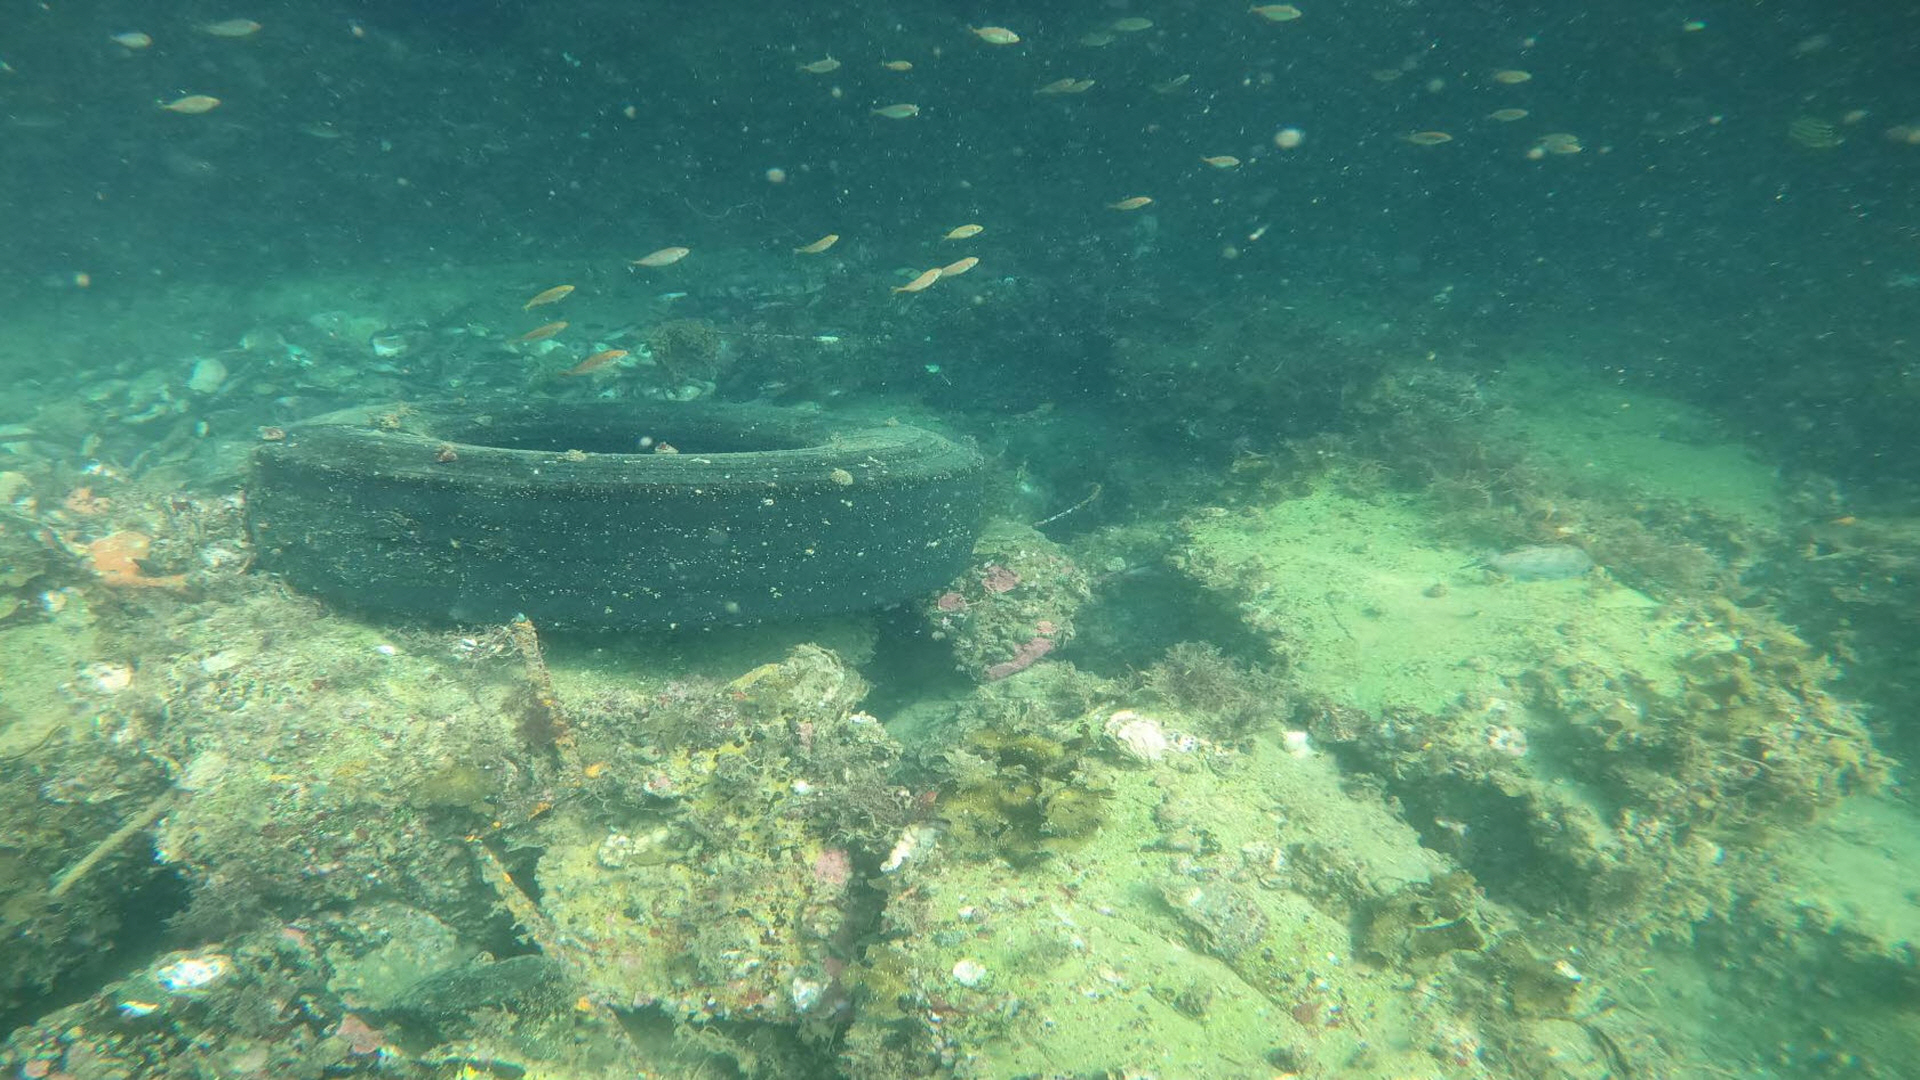tire: (252, 396, 986, 634)
